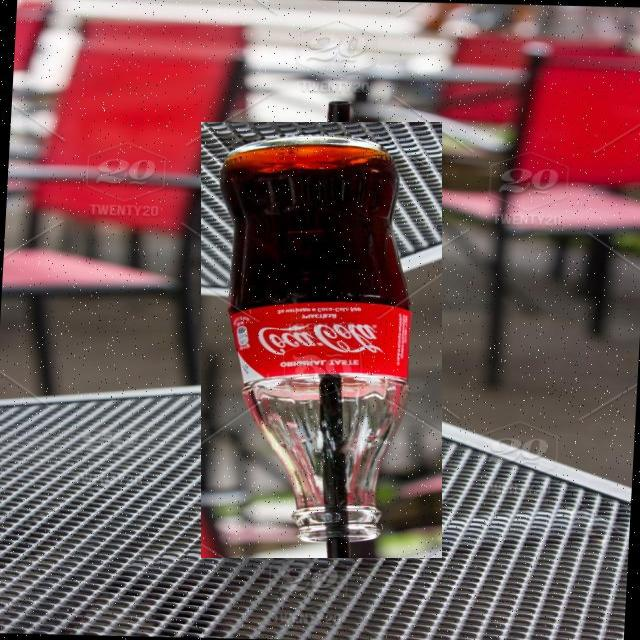coca-cola: (201, 122, 442, 558)
